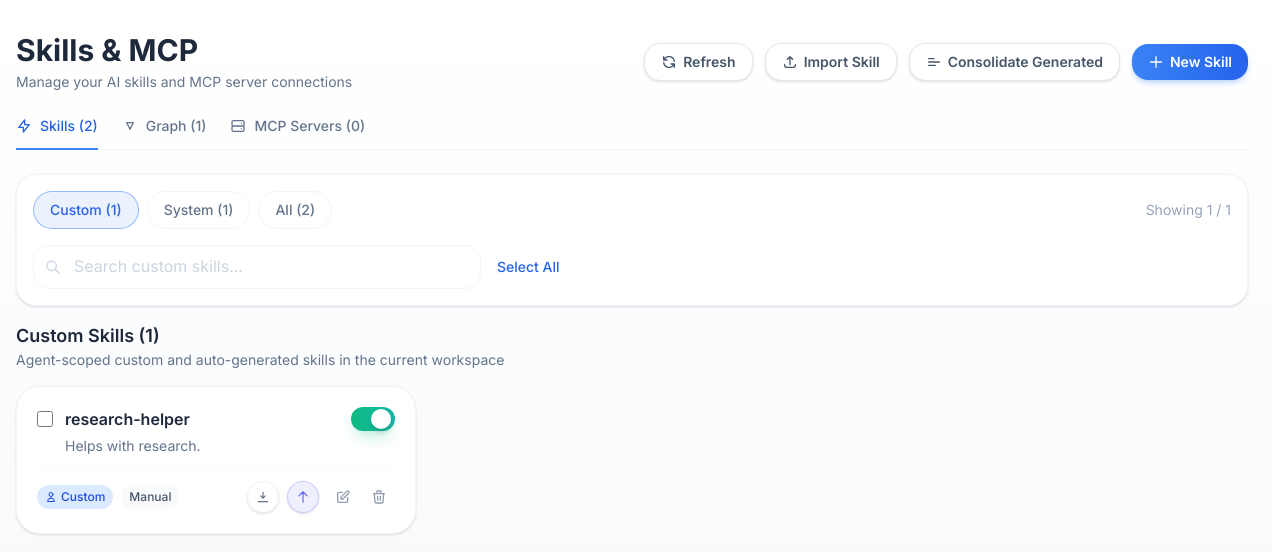
SkillsPage › exports a skill package from the card action
Expected: the heading "research-helper" is shown, [65,407,190,432]
Click the button named "Export".
click(263, 497)  # box [247,481,279,513]
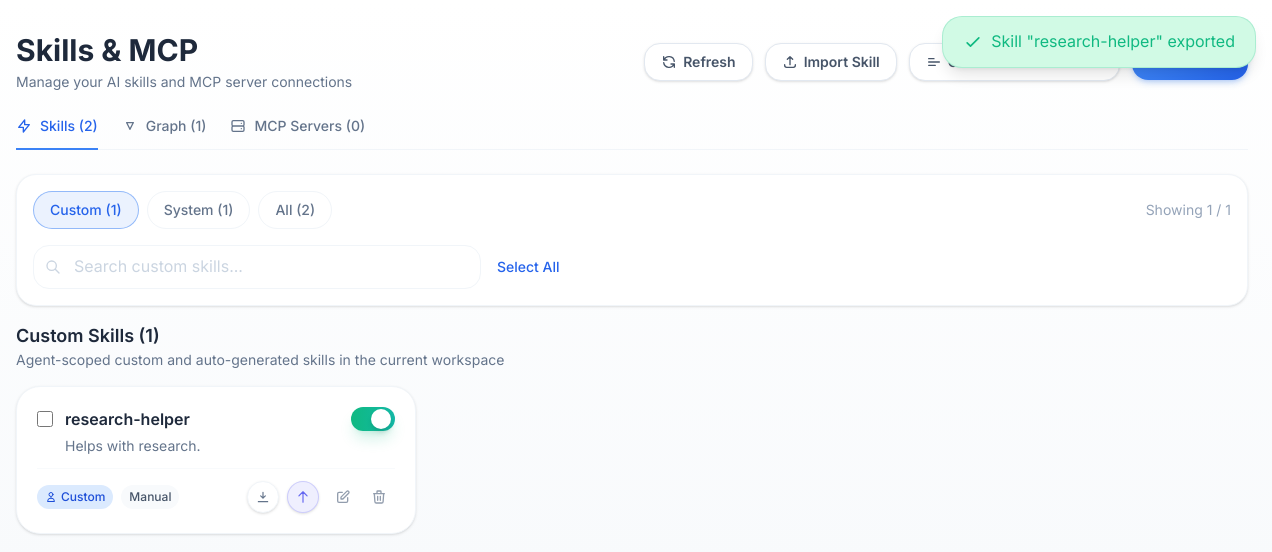
Expected: the text "Skill \"research-helper\" exported" is shown, [963,29,1235,55]
